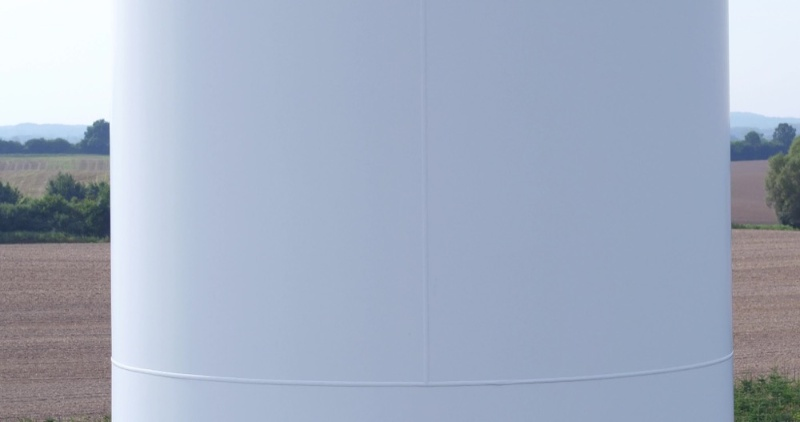weldseam: (110, 349, 738, 391), (413, 2, 436, 389)
